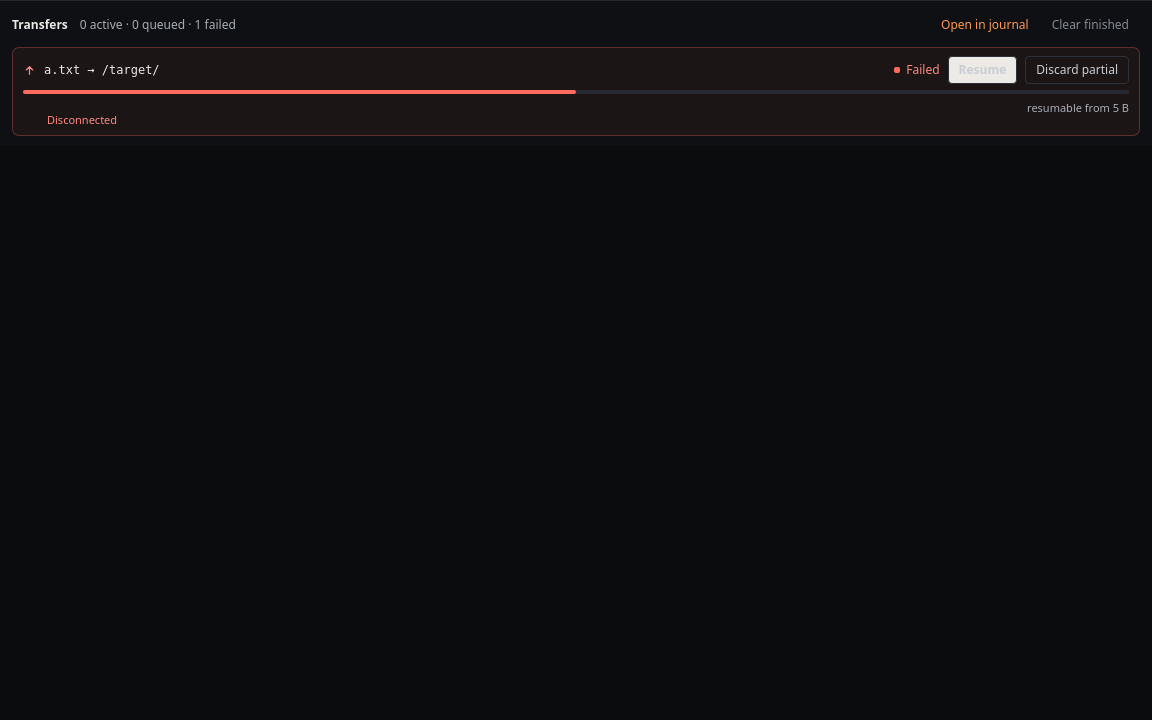
it: transfer retry confirmation › keeps the existing target when the retry confirmation is cancelled
Click the button "Resume". click: (982, 70)
box: [948, 56, 1017, 84]
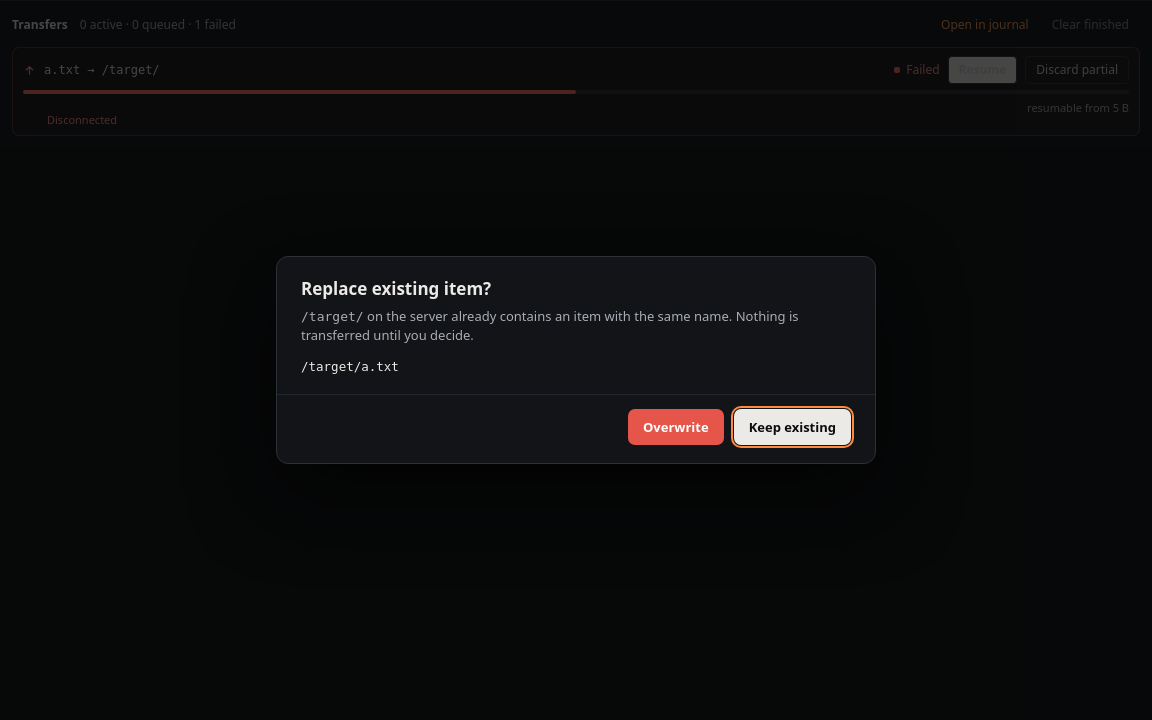
Check: the dialog is shown, box [276, 256, 876, 464]
Click the button "Keep existing". click: (792, 427)
box: [734, 409, 851, 445]
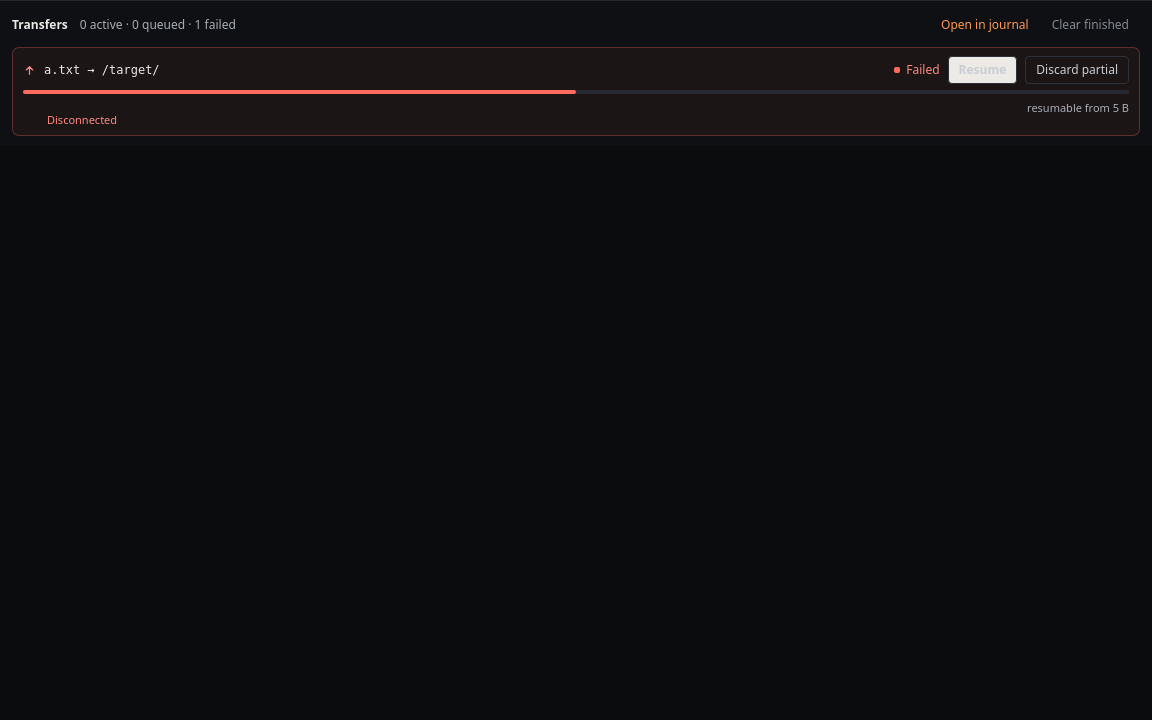
Check: the dialog is gone
